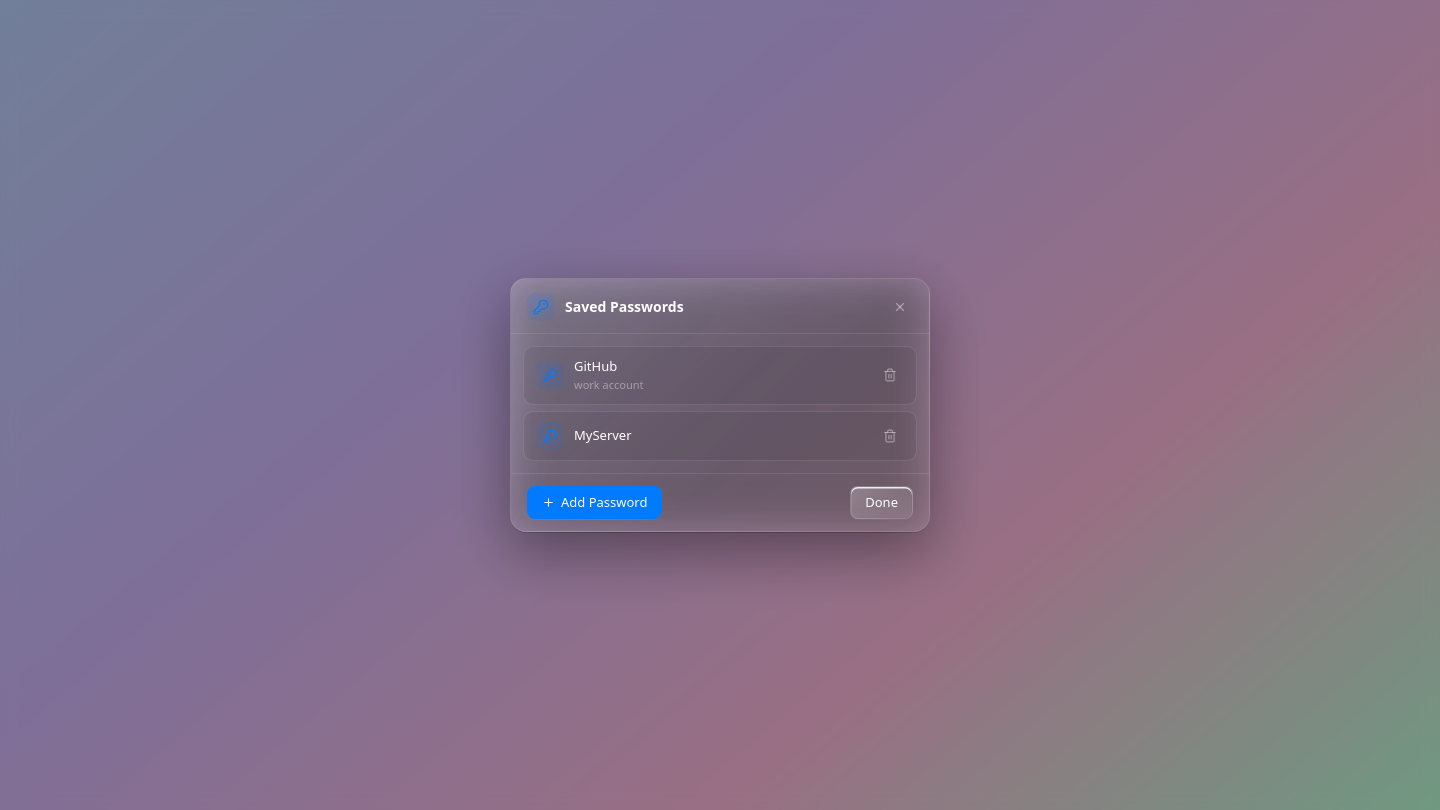
PasswordManager › confirms delete and removes entry
The width and height of the screenshot is (1440, 810).
What coordinates should you click on to do the following:
click the button titled "Delete" in the row of "work account"
I would click on:
 (890, 375)
Its box is [876,361,904,389].
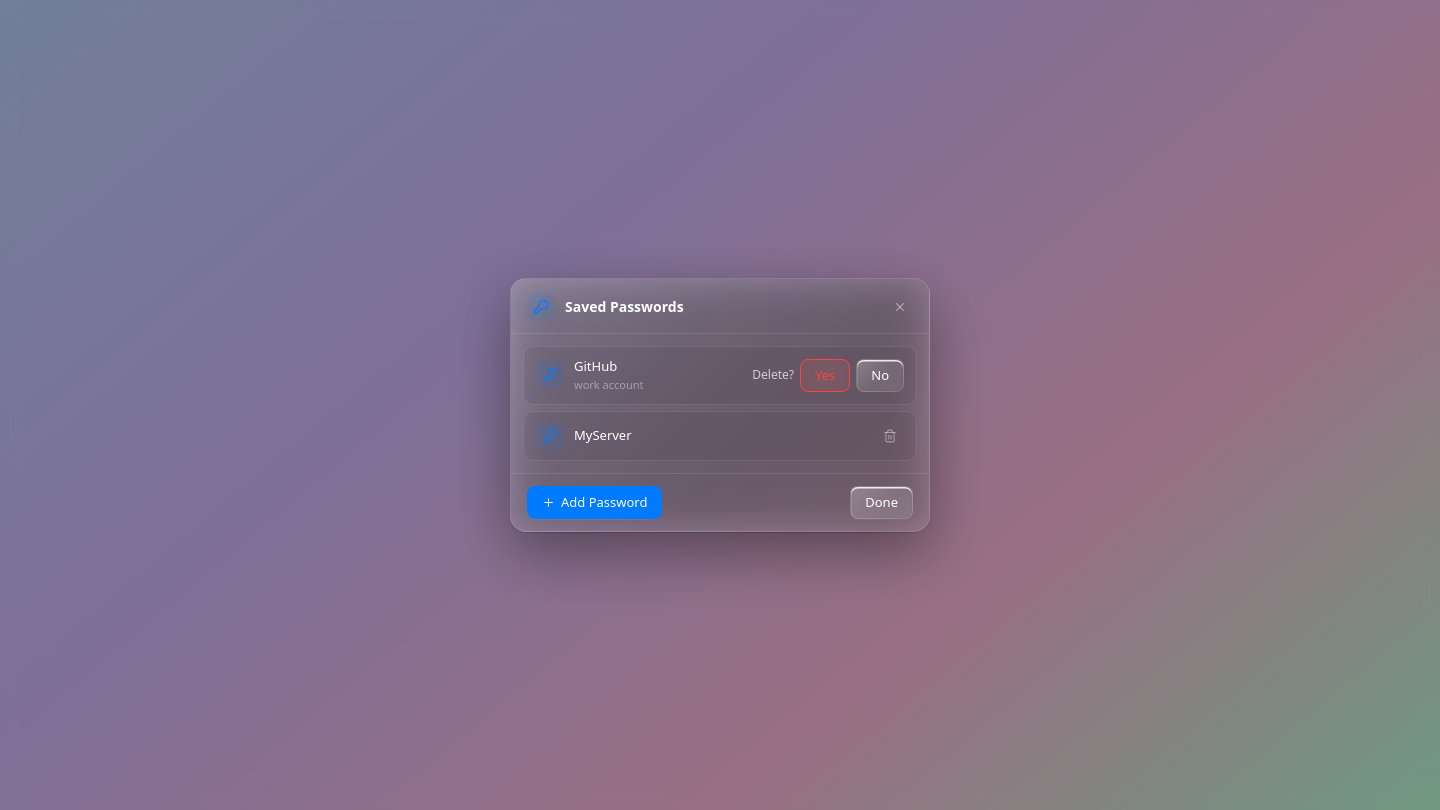
What coordinates should you click on to do the following:
click the button "Yes"
I would click on:
 (825, 375)
Its box is [800,358,850,392].
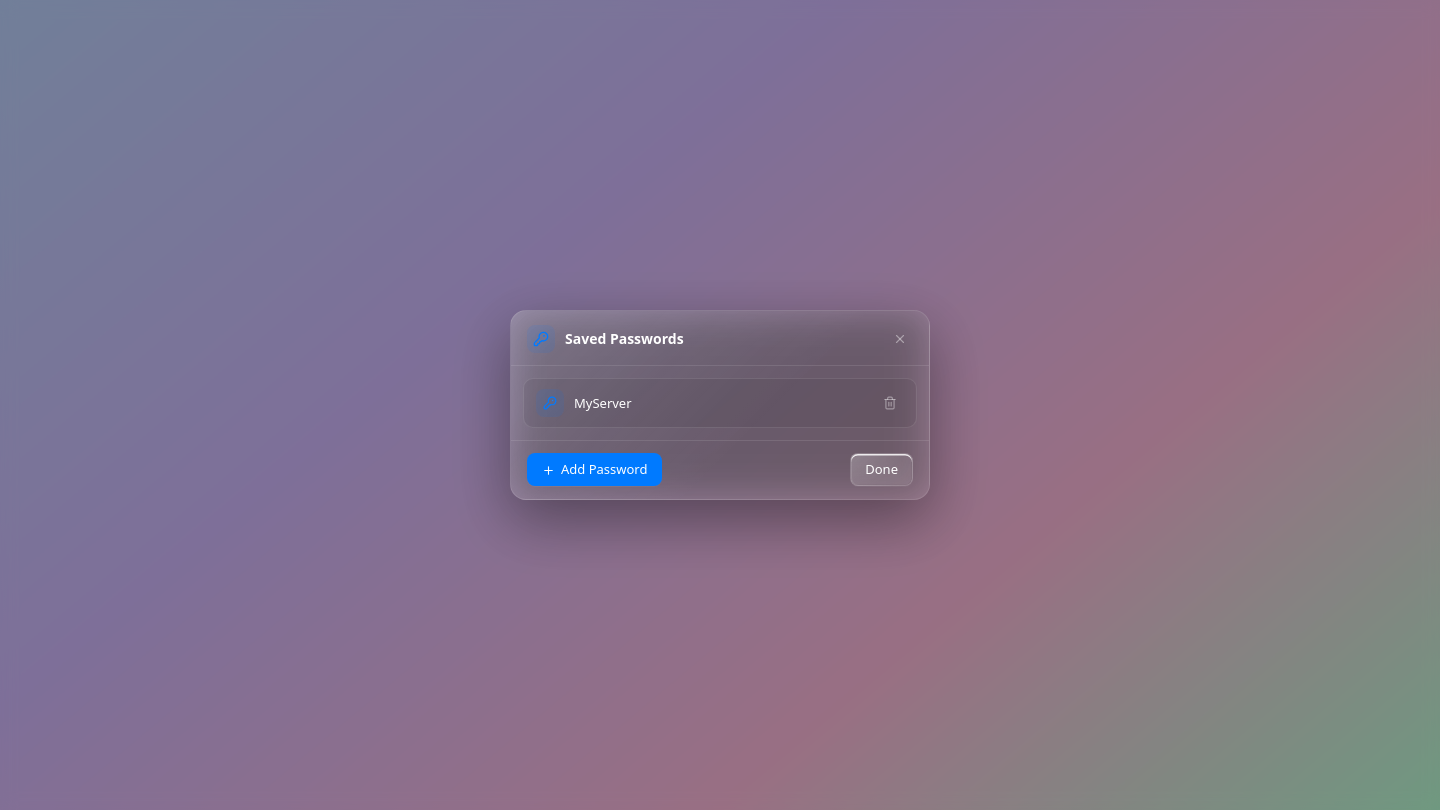
Check: the text "GitHub" is gone
